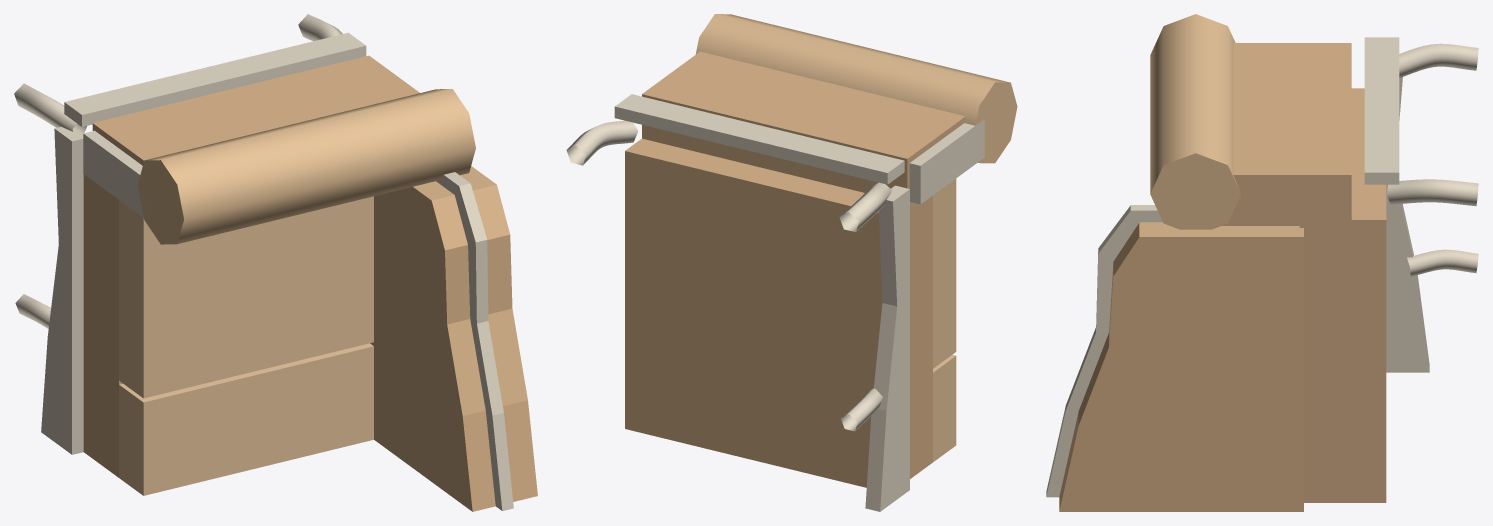
Rendered from section-6.obj.
3 renders of one model, left to right at view 1: azimuth 30°, elevation 25°; view 2: azimuth 150°, elevation 25°; view 3: azimuth 270°, elevation 25°, orthographic. The views are drawn at different scales.
Bounding box in the file's own units: 0.8086 × 0.895 × 0.998.
Materials: 1 (1 with a texture image).
